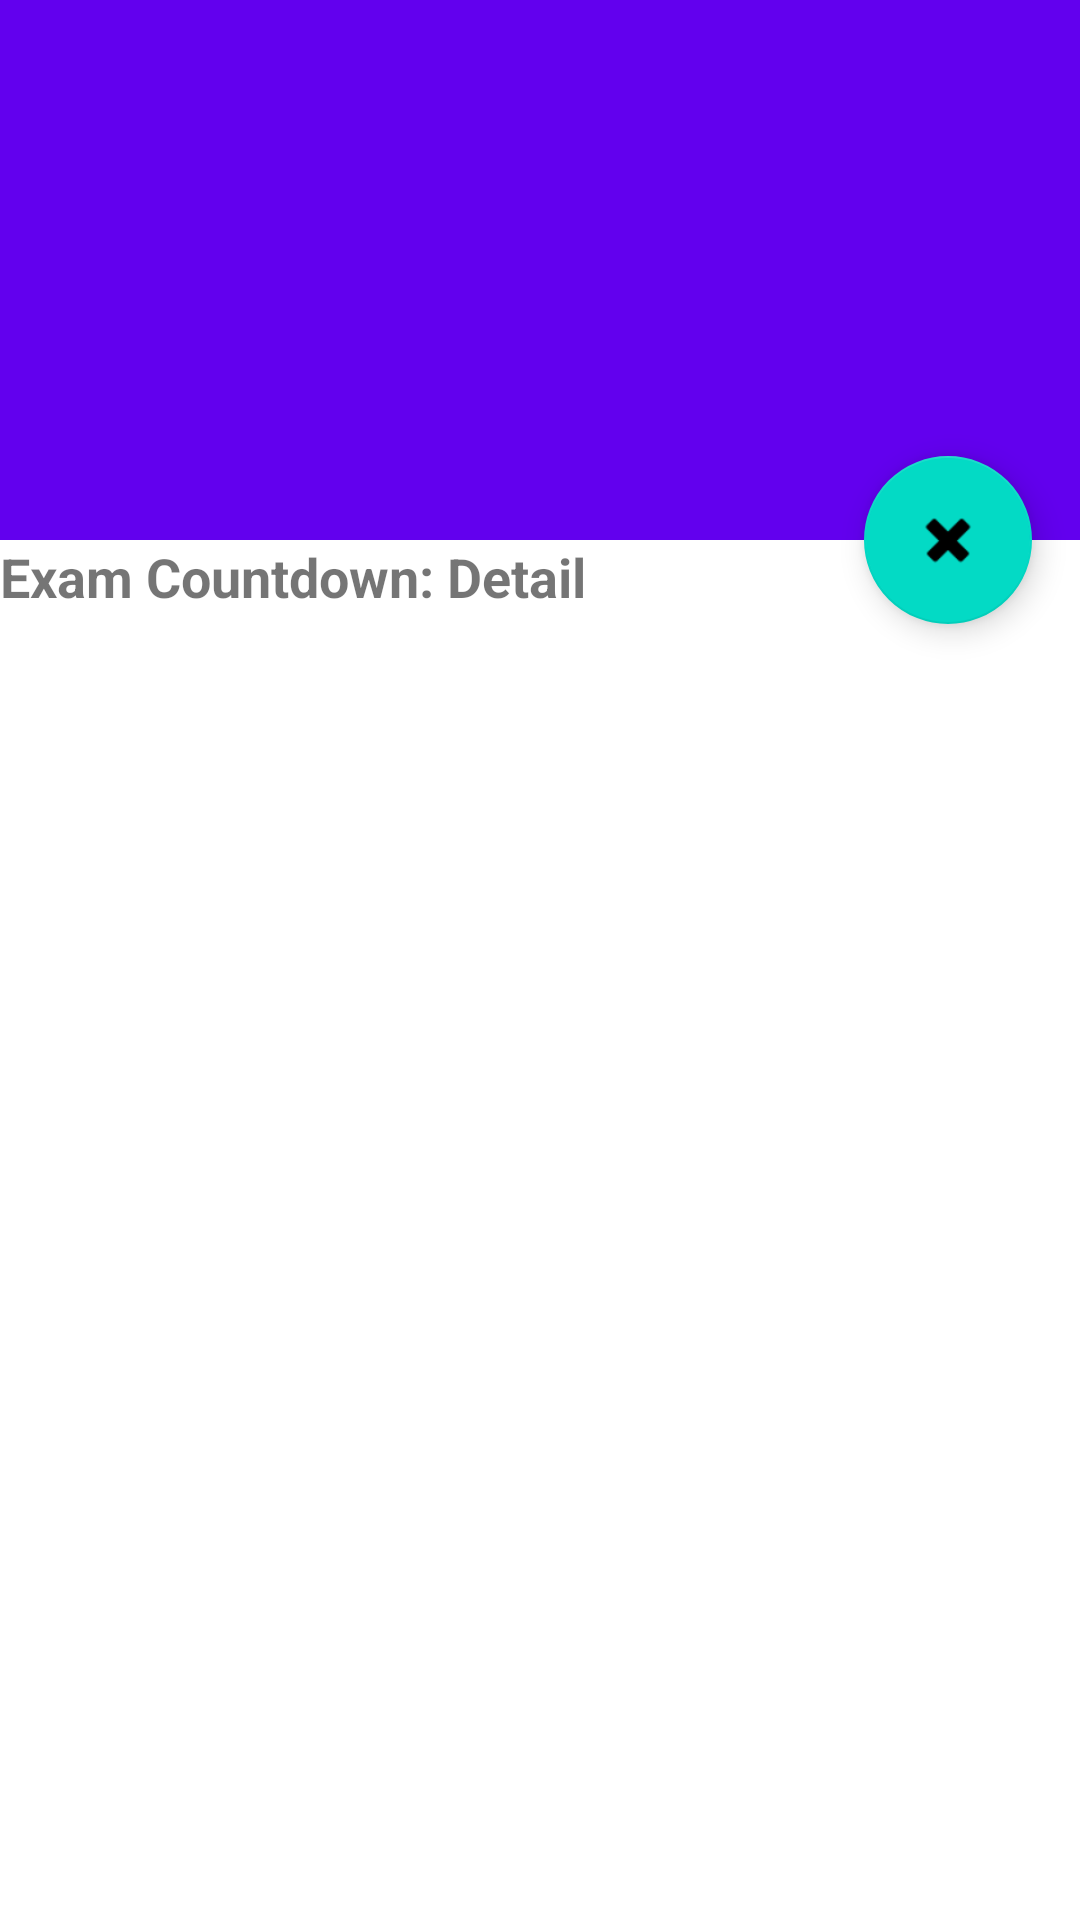

Icon click points for this 1080×1920 phone screenshot, format (x,y):
delete: (948,540)
